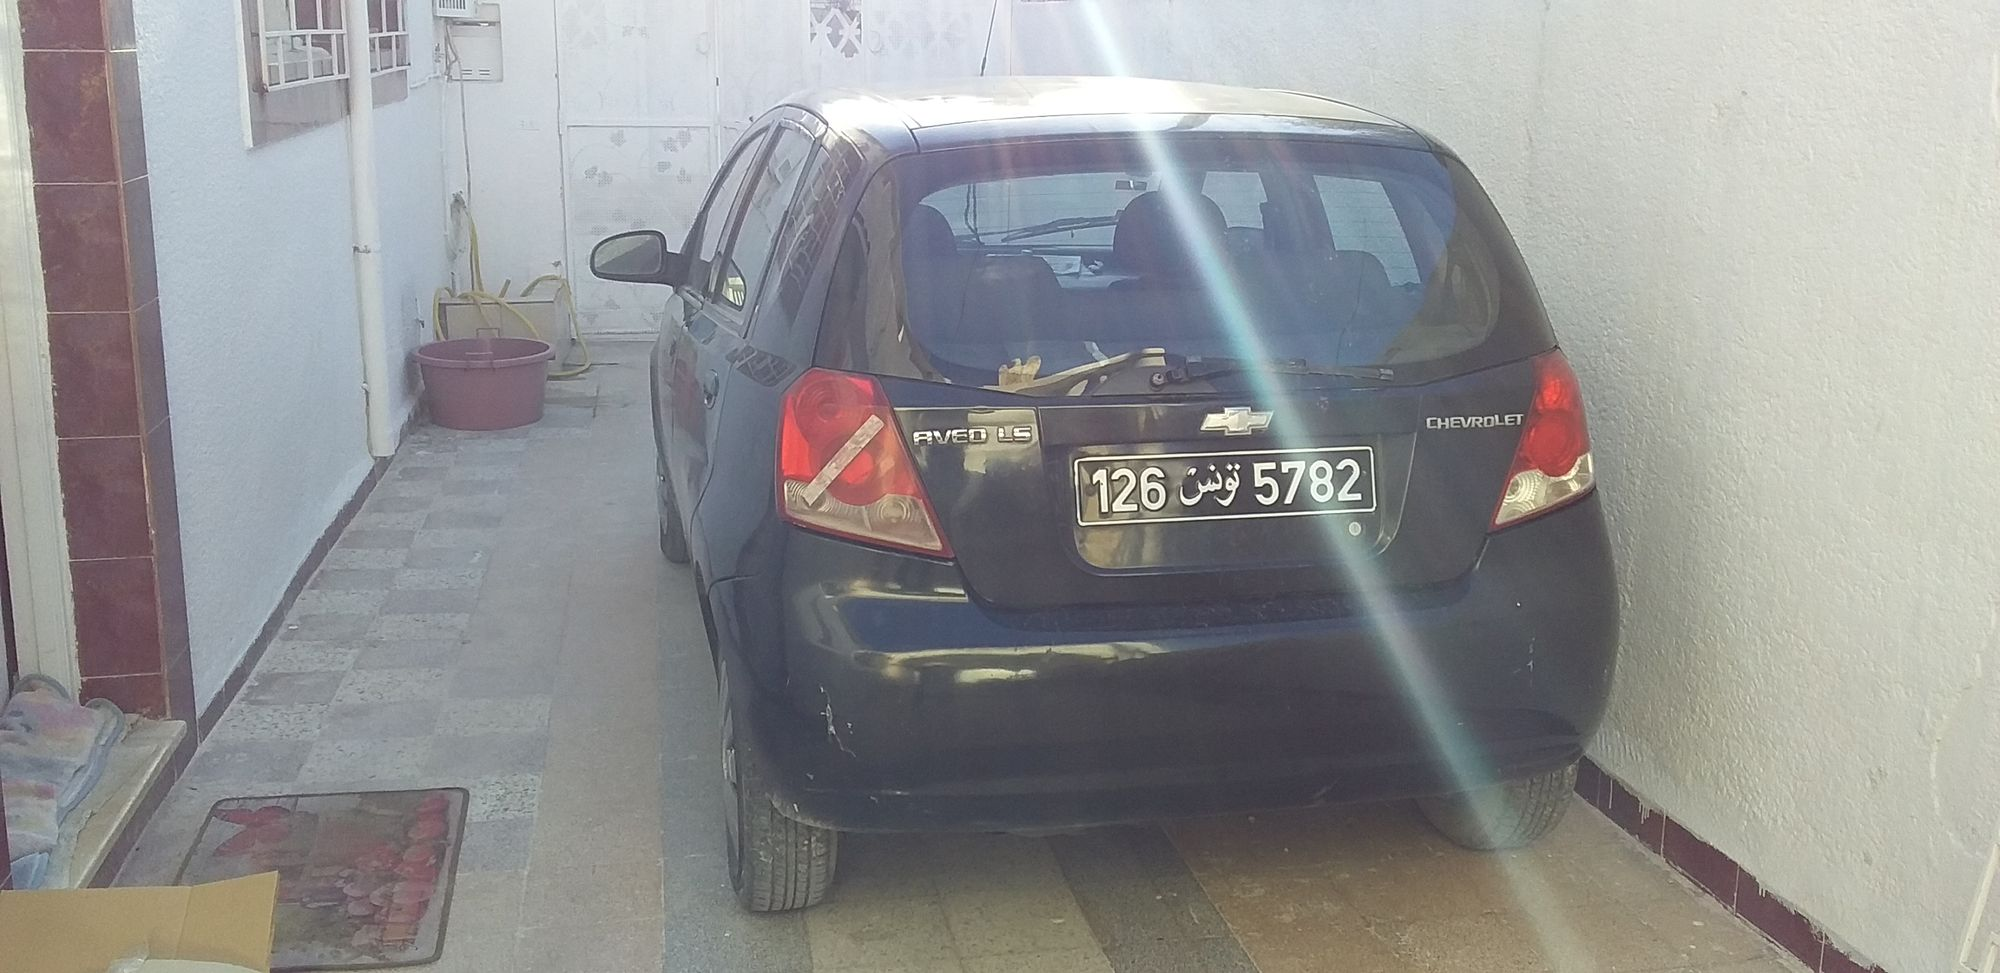LP: (1071, 450, 1386, 523)
